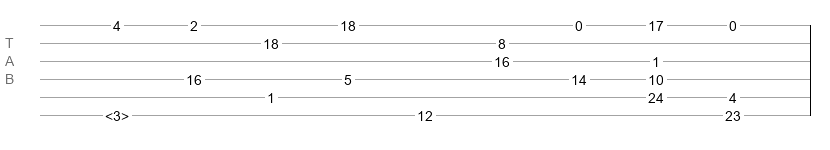0: (575, 18, 583, 28), (729, 18, 737, 28)
1: (267, 90, 275, 100), (652, 54, 660, 64)
10: (648, 72, 664, 82)
12: (417, 108, 433, 118)
14: (571, 72, 587, 82)
16: (186, 72, 202, 82), (494, 54, 510, 64)
17: (648, 18, 664, 28)
18: (263, 36, 279, 46), (340, 18, 356, 28)
2: (190, 18, 198, 28)
23: (725, 108, 741, 118)
24: (648, 90, 664, 100)
4: (113, 18, 121, 28), (729, 90, 737, 100)
5: (344, 72, 352, 82)
8: (498, 36, 506, 46)
harmonic: (105, 108, 129, 118)
